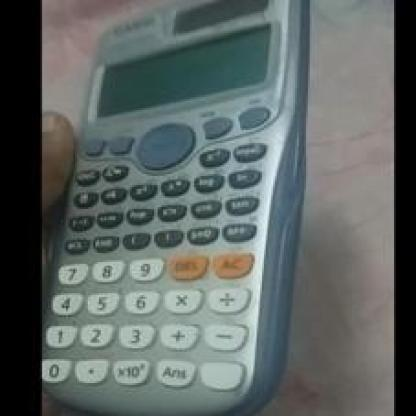calculator: (74, 13, 311, 412)
